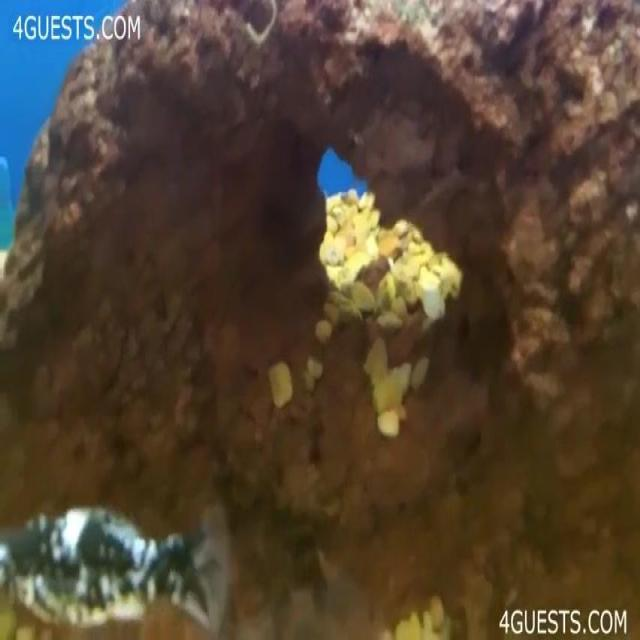PlatyFish: (0, 473, 249, 640)
